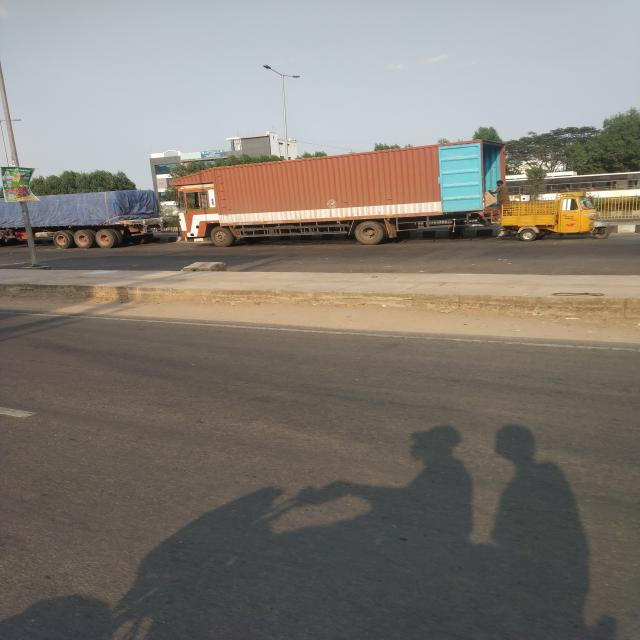Bus: (507, 170, 640, 197)
Truck: (178, 138, 506, 245), (1, 190, 169, 250)
tempo: (501, 198, 619, 240)
